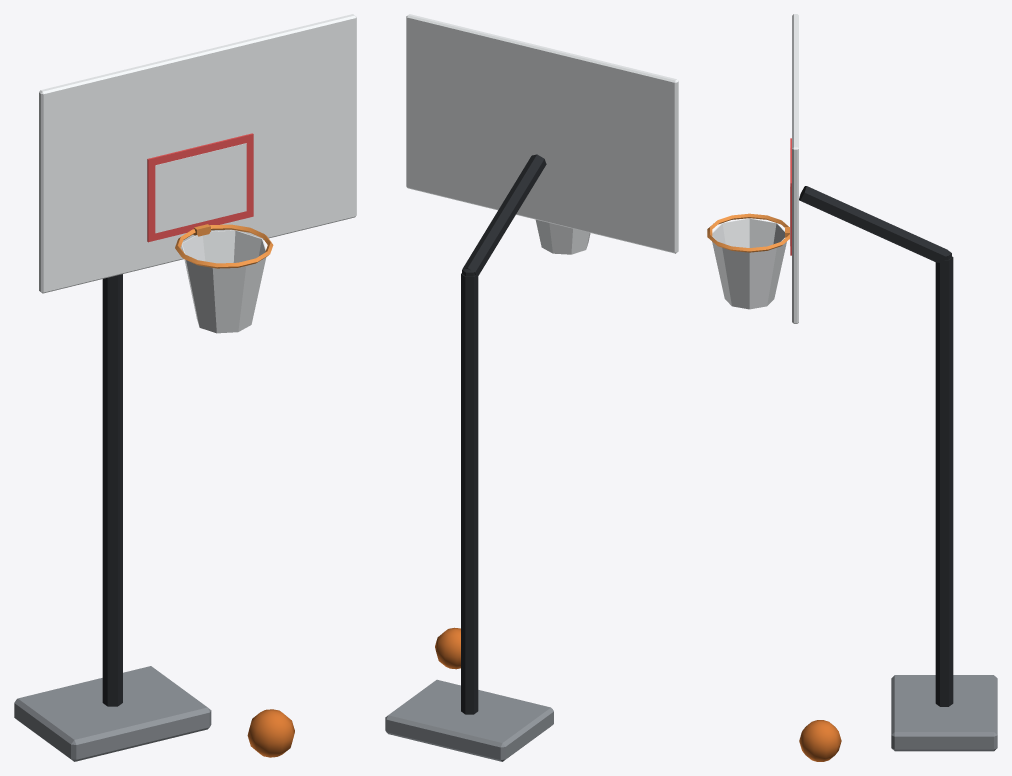
File: basketball_hoop.glb
3 views of the same model, side by side, from view 1: azimuth 30°, elevation 25°; view 2: azimuth 150°, elevation 25°; view 3: azimuth 270°, elevation 25° (orthographic). The views are drawn at different scales.
Visible parts, largest first — view 1: basketball_hoop; view 2: basketball_hoop; view 3: basketball_hoop.
Part boxes in pixels (x1,y1,x2,y2): basketball_hoop: (14, 14, 356, 761); basketball_hoop: (385, 14, 678, 761); basketball_hoop: (707, 14, 997, 761).
Size of the model in its own units: 1.8 by 4 by 1.64.
